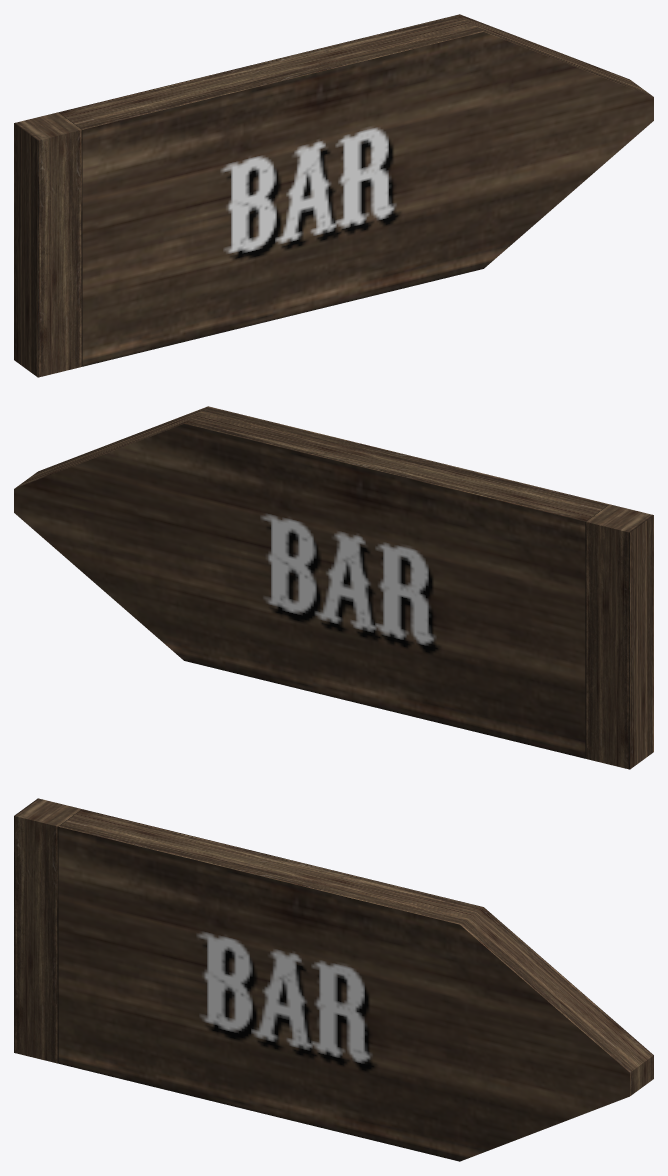
The model's file is wooden-sign-04.fbx.
3 renders of one model, top to bottom at view 1: azimuth 30°, elevation 25°; view 2: azimuth 150°, elevation 25°; view 3: azimuth 330°, elevation 25°, orthographic.
Parts seen in each view (by area): view 1: Cube.249; view 2: Cube.249; view 3: Cube.249.
Boxes of the visible parts, box(x1,y1,x2,y2) form: Cube.249: box(14, 14, 653, 377); Cube.249: box(14, 406, 653, 769); Cube.249: box(14, 798, 653, 1161).
Size of the model in its own units: 0.8128 by 0.2988 by 0.0549.
